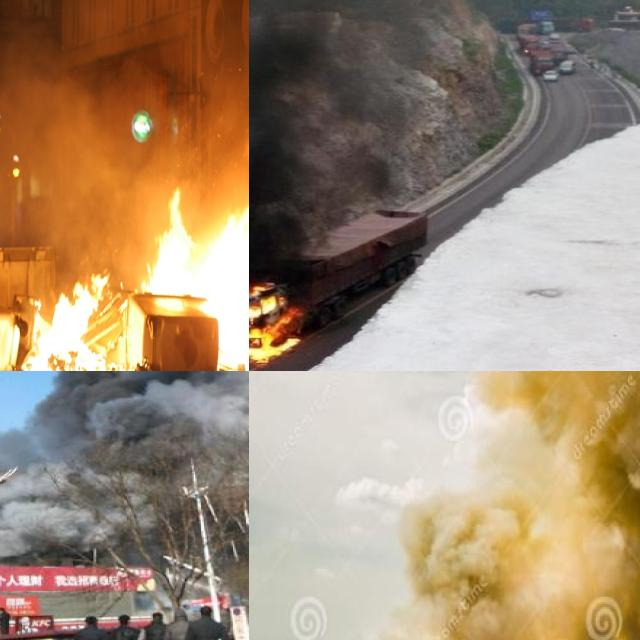fire: (22, 183, 249, 371), (249, 275, 309, 364)
smoke: (297, 371, 640, 640), (0, 52, 249, 258), (249, 0, 391, 320), (0, 371, 249, 550)
